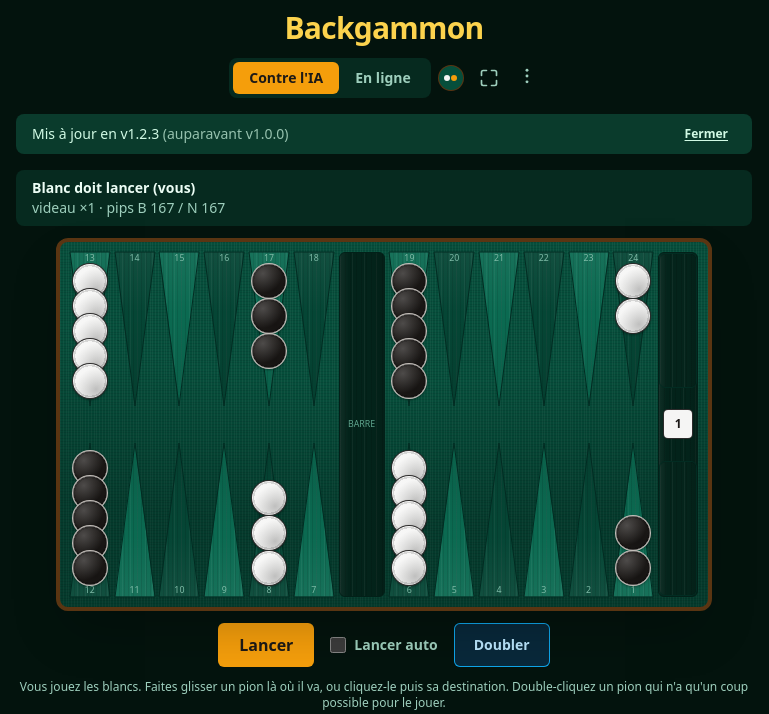
Test: App › reports the version it just updated from
The image size is (769, 714).
Expected: the element with test id "updated-notice" shows "Mis à jour en v1.2.3", [16,114,752,154]
Step 1. Click the button "Fermer" → (706, 134), box [676,122,736,146]
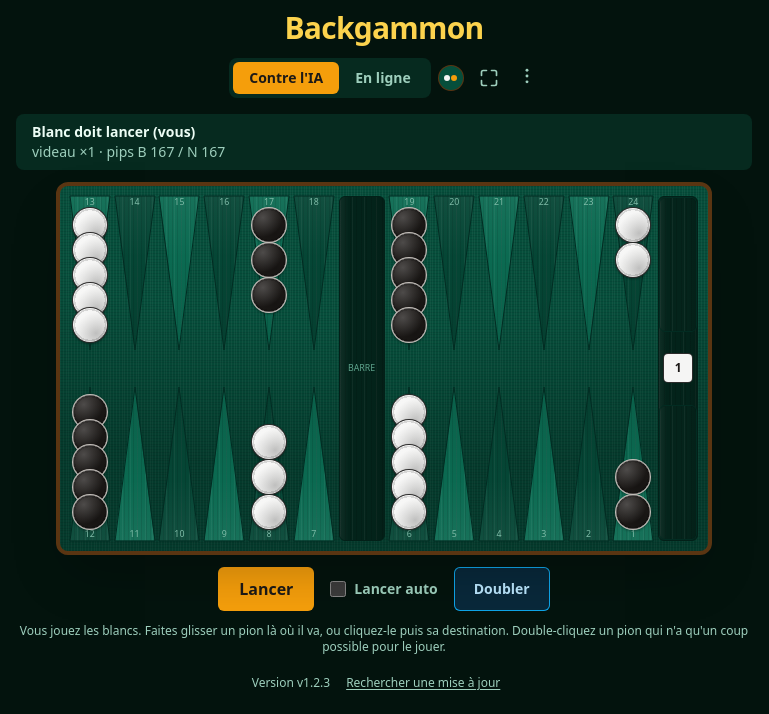
Now the element with test id "updated-notice" is gone
